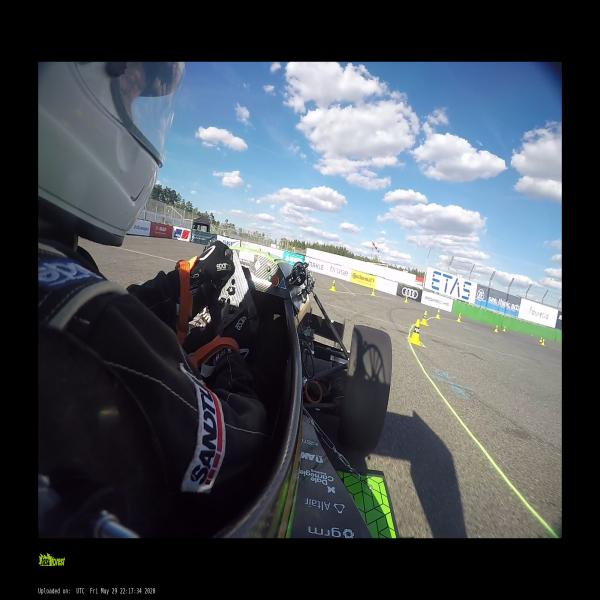yellow_cone: (409, 320, 421, 345), (420, 311, 428, 326), (331, 280, 336, 291), (435, 309, 440, 319), (494, 326, 498, 332), (457, 316, 460, 322), (542, 340, 545, 346), (503, 326, 506, 332), (372, 288, 374, 296), (405, 297, 407, 303), (459, 312, 461, 318), (540, 337, 542, 342)
